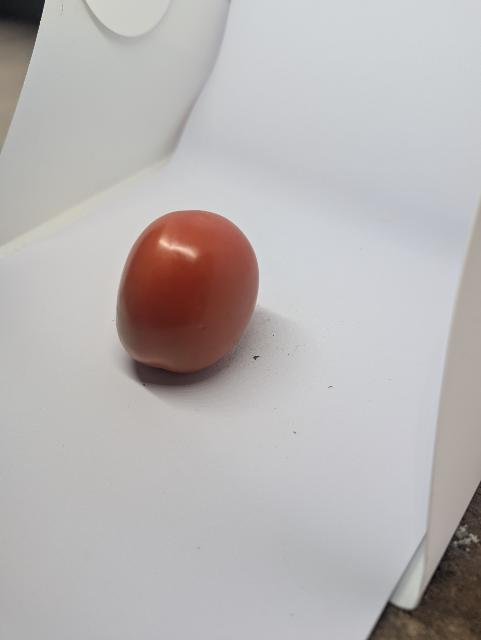red: (106, 196, 271, 395)
